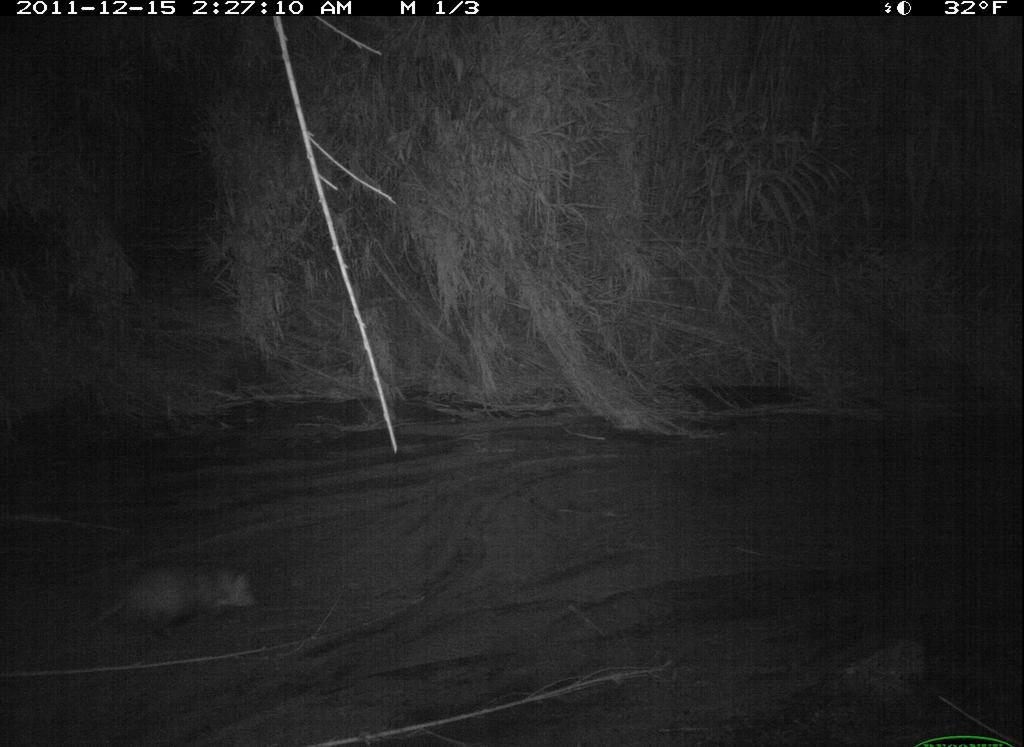opossum: (56, 559, 265, 649)
